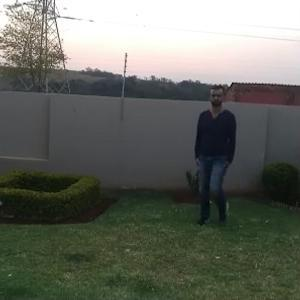follow: (190, 84, 237, 228)
